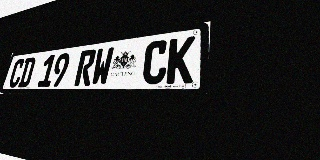1: (37, 54, 57, 87)
9: (50, 52, 71, 87)
C: (141, 39, 169, 84), (7, 58, 26, 88)
D: (17, 57, 36, 87)
K: (166, 36, 195, 84)
R: (74, 49, 97, 86)
W: (90, 47, 114, 86)
